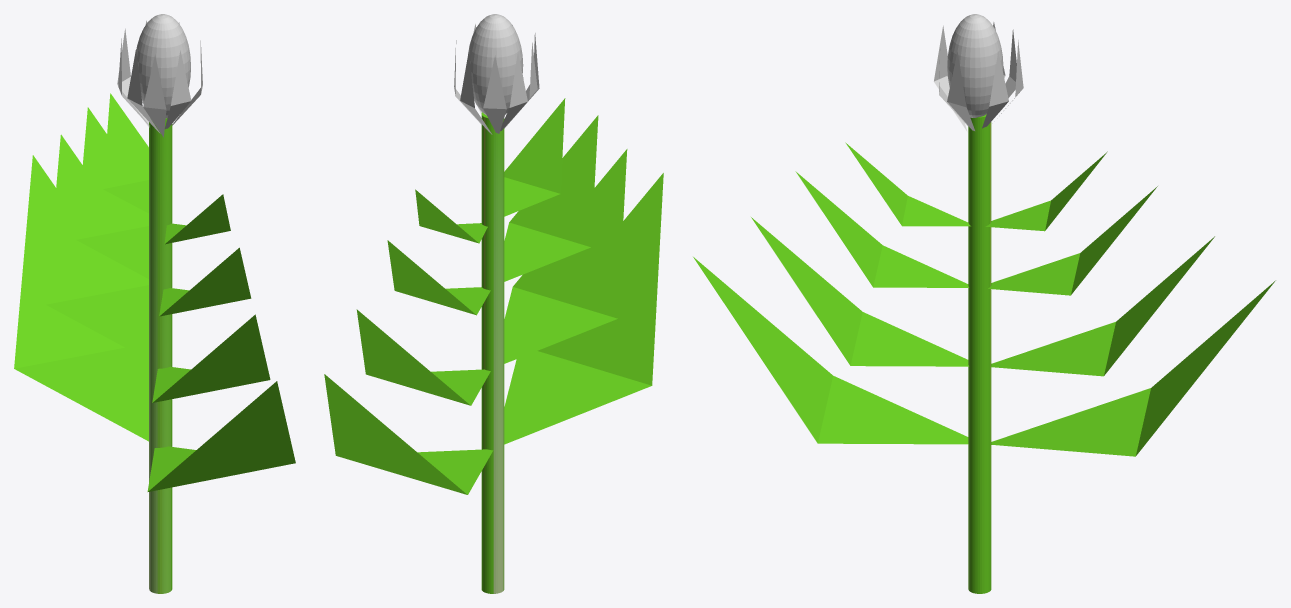
Rendered from corn.fbx.
3 views of the same model, side by side, from view 1: azimuth 30°, elevation 25°; view 2: azimuth 150°, elevation 25°; view 3: azimuth 270°, elevation 25° (orthographic).
Parts seen in each view (by area): view 1: Plane.001, Plane.009, Sphere; view 2: Plane.001, Sphere, Plane.009; view 3: Plane.001, Sphere, Plane.009.
Boxes of the visible parts, x1,y1,x2,y2 form: Plane.001: [14, 93, 295, 593]; Plane.009: [117, 20, 202, 137]; Sphere: [136, 14, 190, 118]; Plane.001: [324, 98, 663, 593]; Sphere: [468, 14, 523, 115]; Plane.009: [454, 24, 539, 134]; Plane.001: [693, 114, 1275, 593]; Sphere: [947, 14, 1003, 117]; Plane.009: [934, 22, 1023, 131].
Bounding box in the file's own units: 16.68 × 55.04 × 50.77.
